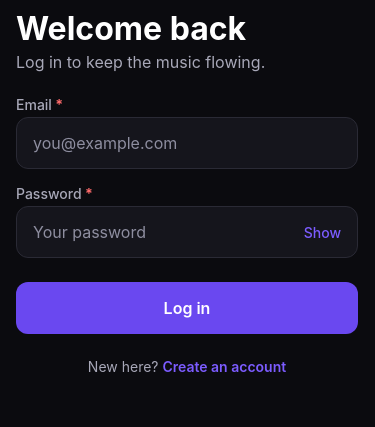
LoginScreen › clears a field error once the user edits the field
Click the button with test id "login-submit" at (187,308), box [16,282,358,334]
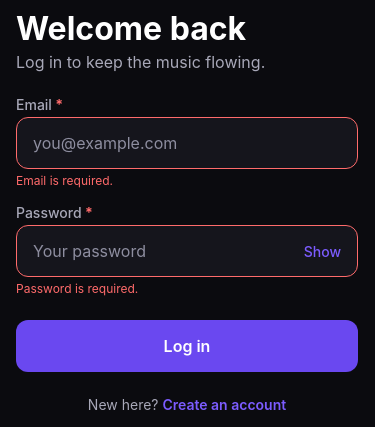
Expected: the text "Email is required." is shown, [16,173,113,188]
Type "fan@example.com" into the field with test id "login-email" at (187,143), box [33,125,341,161]
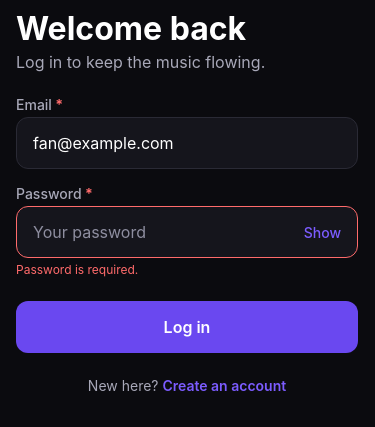
Expected: the text "Email is required." is gone
